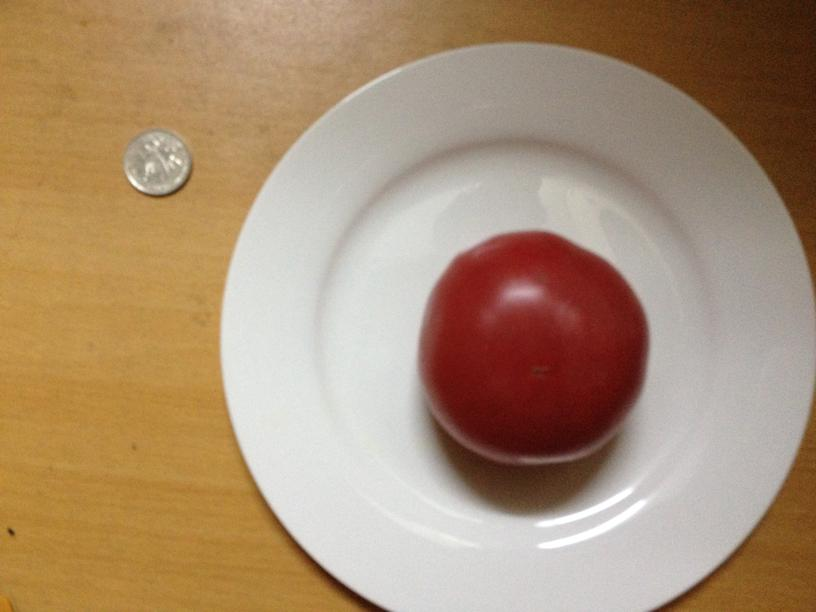coin: (119, 128, 191, 195)
tomato: (417, 229, 652, 469)
